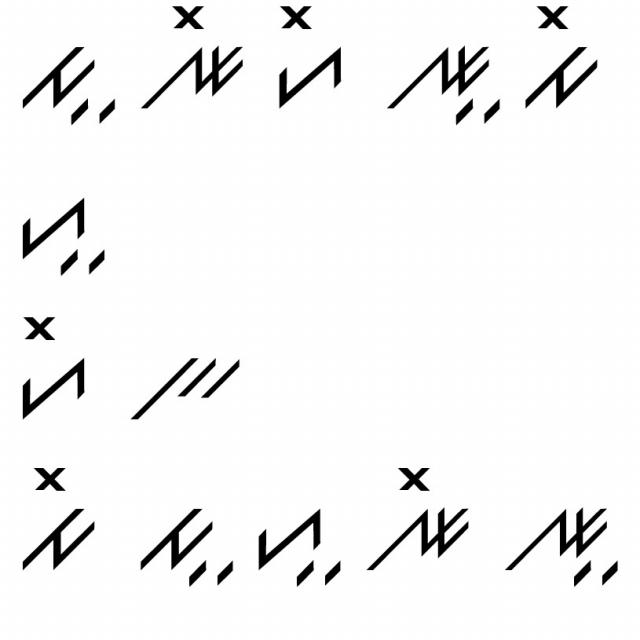hah: (11, 188, 112, 286), (250, 504, 346, 591)
ho: (7, 308, 94, 421), (271, 2, 347, 112)
mbah: (12, 34, 122, 137), (132, 499, 238, 602)
mbo: (13, 459, 98, 579), (517, 3, 598, 118)
ndah: (386, 37, 506, 140), (501, 497, 623, 598)
ndo: (364, 461, 472, 574), (140, 2, 245, 115)
